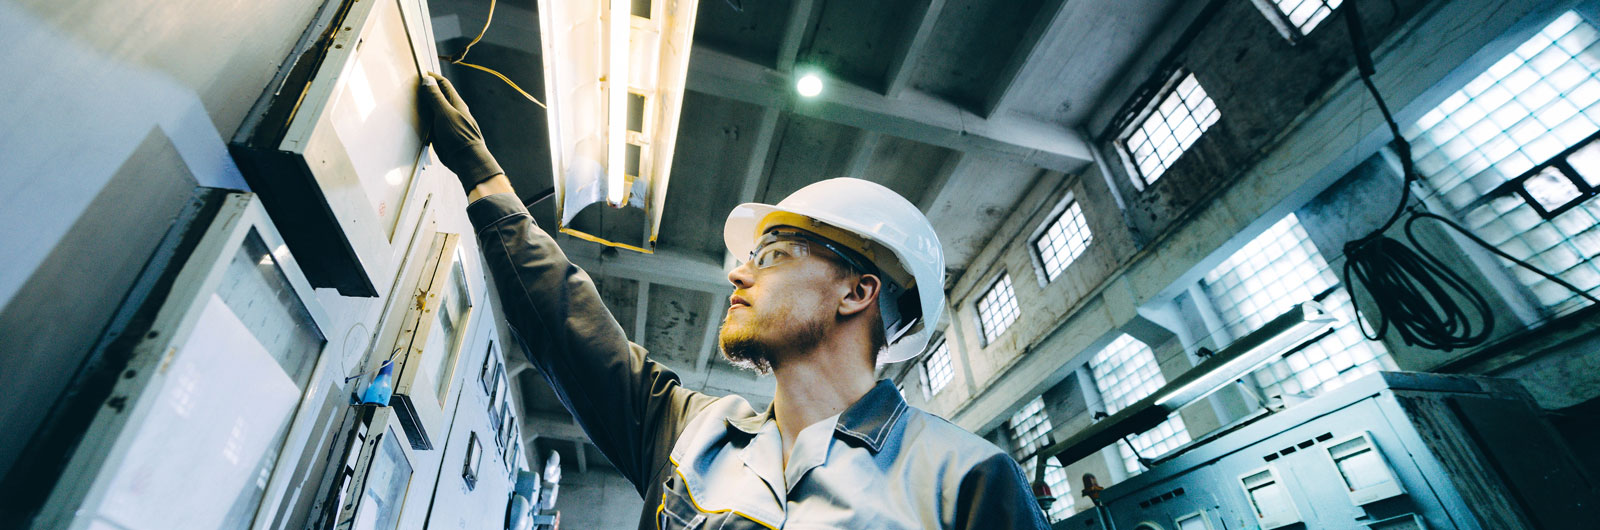Person_wearing_helmet: (696, 147, 970, 282)
